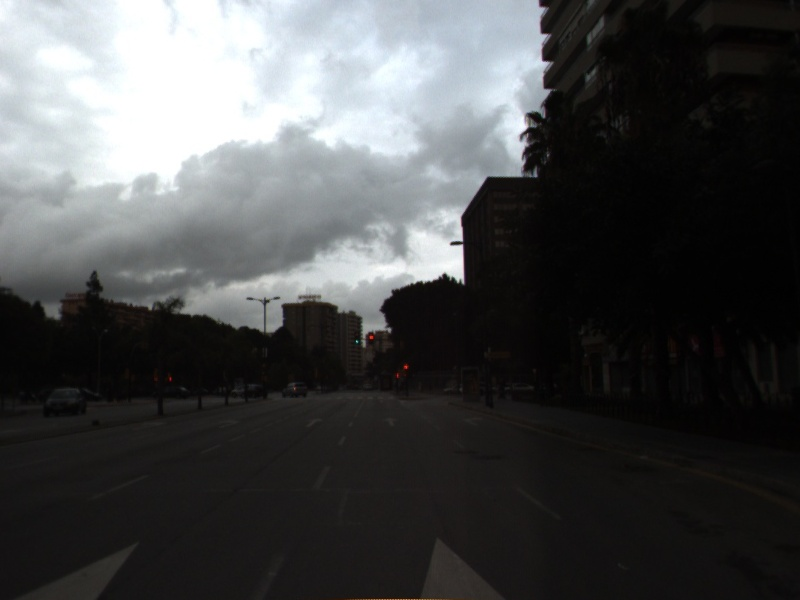LEFT: (214, 416, 242, 430)
RIGHT: (460, 413, 487, 429)
STRAIGHT: (379, 415, 400, 429), (303, 416, 325, 429)
